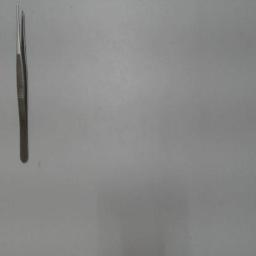Gillies Toothed Dissector: (12, 3, 32, 167)
